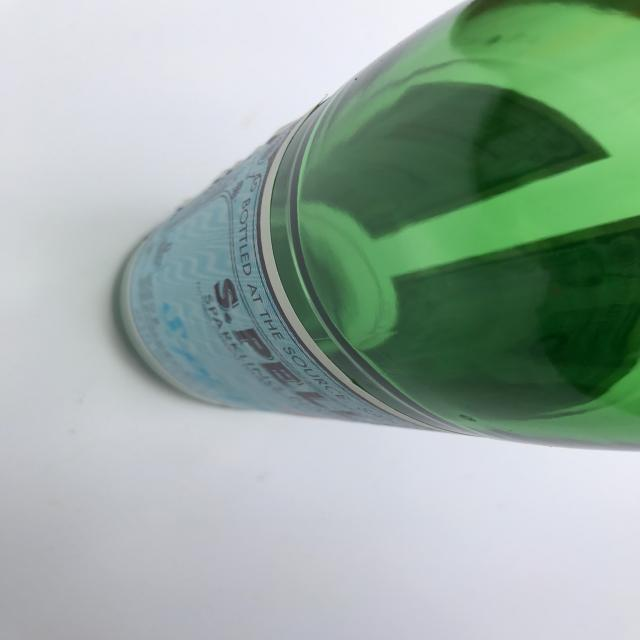Glass: (98, 0, 640, 456)
